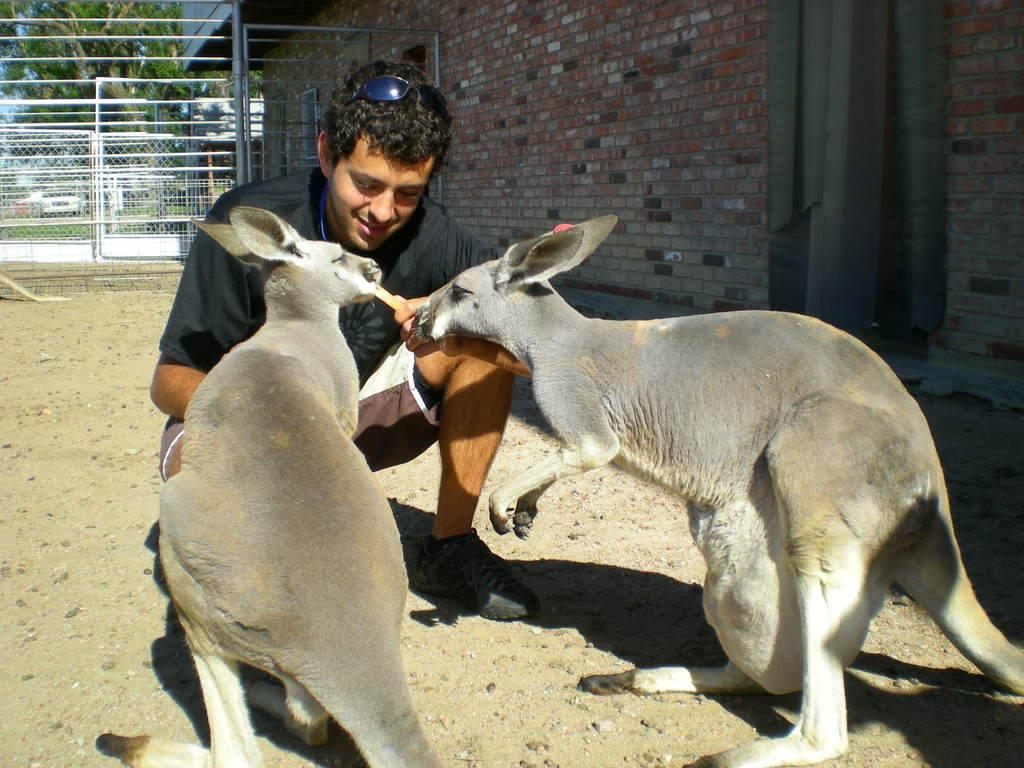kangaroo: (414, 210, 1023, 768), (92, 208, 440, 767)
